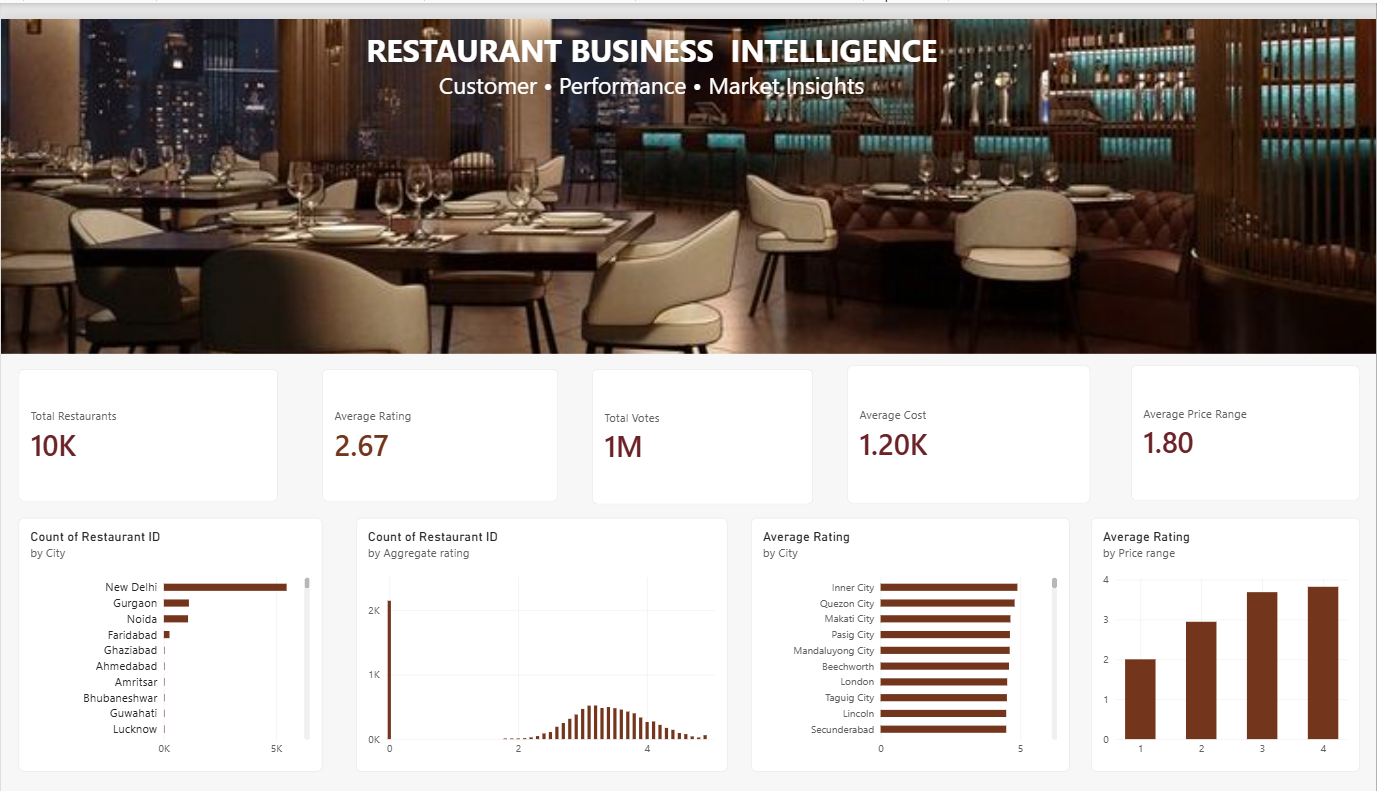

What the dashboard file says about the page in this screenshot:
{"tool":"powerbi","page":{"name":"Executive  Overview","canvas":[1920,1080],"ordinal":0},"visuals":[{"type":"image","box":[0,0,1920.4,467.2],"z":0},{"type":"textbox","box":[467.4,14,880.8,141.3],"z":1000},{"type":"cardVisual","fields":{"Data":["restaurant_cleaned.Total Restaurants"]},"box":[24.7,487.8,362.3,185.2],"z":2000},{"type":"cardVisual","fields":{"Data":["restaurant_cleaned.Total Votes"]},"box":[825.4,487.8,308.7,189.4],"z":3000},{"type":"cardVisual","fields":{"Data":["restaurant_cleaned.Average Rating"]},"box":[448.7,487.8,329.3,185.2],"z":4000},{"type":"cardVisual","fields":{"Data":["restaurant_cleaned.Average Cost"]},"box":[1181.5,483.7,339.6,193.5],"z":5000},{"type":"cardVisual","fields":{"Data":["restaurant_cleaned.Average Price Range"]},"box":[1576.7,483.7,319,189.4],"z":6000},{"type":"clusteredColumnChart","fields":{"Category":["restaurant_cleaned.Aggregate rating"],"Y":["CountNonNull(restaurant_cleaned.Restaurant ID)"]},"box":[495.4,695.9,518,354.1],"z":7000},{"type":"clusteredBarChart","fields":{"Category":["restaurant_cleaned.City"],"Y":["CountNonNull(restaurant_cleaned.Restaurant ID)"]},"box":[24.4,695.9,423.8,354.1],"z":8000},{"type":"clusteredBarChart","fields":{"Category":["restaurant_cleaned.City"],"Y":["restaurant_cleaned.Average Rating"]},"box":[1046.5,695.9,444.8,354.1],"z":9000},{"type":"clusteredColumnChart","fields":{"Category":["restaurant_cleaned.Price range"],"Y":["restaurant_cleaned.Average Rating"]},"box":[1520.9,695.9,375,354.1],"z":10000}]}

Visuals, with their boxes in screenshot pixels (x1, y1, x2, y2), scaled from the page's 1920x1080 canvas onto the 1377x791 screenshot:
image: [x1=0, y1=0, x2=1376, y2=342]
textbox: [x1=335, y1=10, x2=967, y2=114]
cardVisual - restaurant_cleaned.Total Restaurants: [x1=18, y1=357, x2=278, y2=493]
cardVisual - restaurant_cleaned.Total Votes: [x1=592, y1=357, x2=813, y2=496]
cardVisual - restaurant_cleaned.Average Rating: [x1=322, y1=357, x2=558, y2=493]
cardVisual - restaurant_cleaned.Average Cost: [x1=847, y1=354, x2=1091, y2=496]
cardVisual - restaurant_cleaned.Average Price Range: [x1=1131, y1=354, x2=1360, y2=493]
clusteredColumnChart - restaurant_cleaned.Aggregate rating x CountNonNull(restaurant_cleaned.Restaurant ID): [x1=355, y1=510, x2=727, y2=769]
clusteredBarChart - restaurant_cleaned.City x CountNonNull(restaurant_cleaned.Restaurant ID): [x1=17, y1=510, x2=321, y2=769]
clusteredBarChart - restaurant_cleaned.City x restaurant_cleaned.Average Rating: [x1=751, y1=510, x2=1070, y2=769]
clusteredColumnChart - restaurant_cleaned.Price range x restaurant_cleaned.Average Rating: [x1=1091, y1=510, x2=1360, y2=769]
